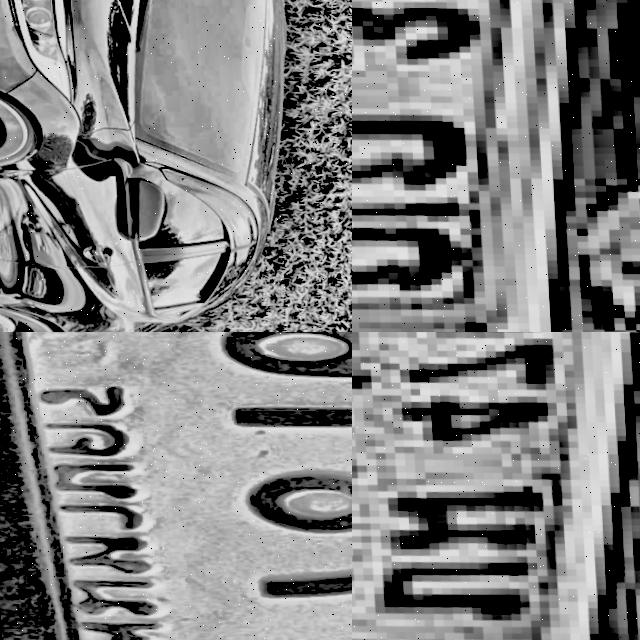license-plate: (0, 332, 352, 640), (352, 0, 640, 332), (352, 332, 640, 640)
